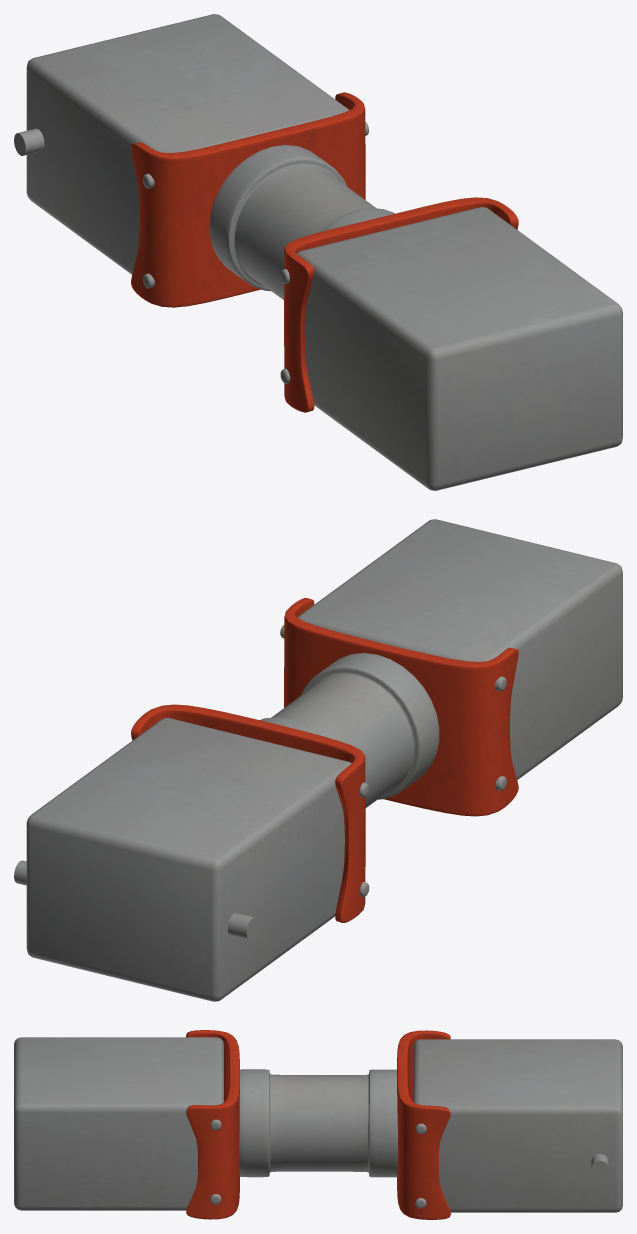
File: arm2.gltf
3 views of the same model, one above another, from view 1: azimuth 30°, elevation 25°; view 2: azimuth 150°, elevation 25°; view 3: azimuth 270°, elevation 25° (orthographic). The views are drawn at different scales.
Visible parts, largest first — view 1: Cube.005; view 2: Cube.005; view 3: Cube.005.
Boxes of the visible parts, <box> form: Cube.005: <box>14,14,622,490</box>; Cube.005: <box>14,519,622,1001</box>; Cube.005: <box>14,1030,622,1219</box>.
Size of the model in its own units: 0.6044 by 0.3795 by 1.84.
Materials: 3 (3 with a texture image).
